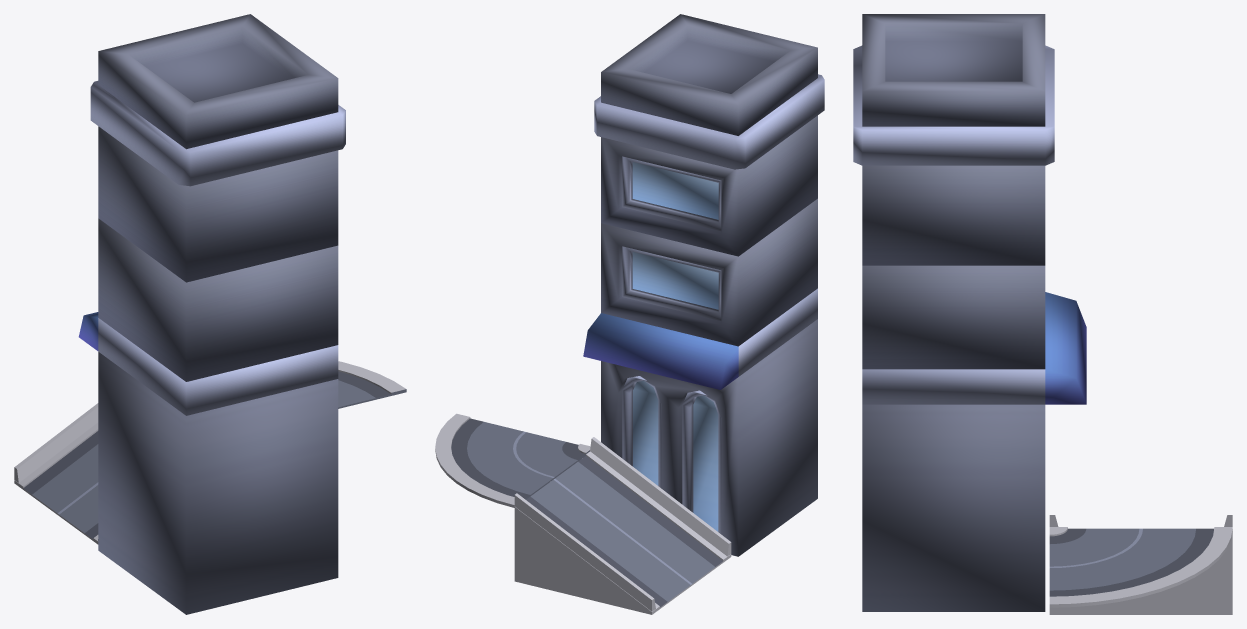
3 renders of one model, left to right at view 1: azimuth 30°, elevation 25°; view 2: azimuth 150°, elevation 25°; view 3: azimuth 270°, elevation 25°, orthographic. The views are drawn at different scales.
Visible parts, largest first — view 1: building-sample-tower-c; view 2: building-sample-tower-c; view 3: building-sample-tower-c.
Part boxes in pixels (x1,y1,x2,y2): building-sample-tower-c: (14, 14, 406, 614); building-sample-tower-c: (435, 14, 824, 614); building-sample-tower-c: (853, 14, 1232, 614).
Bounding box in the file's own units: 2.09 × 3.14 × 2.07.
10 materials, 1 textured.
